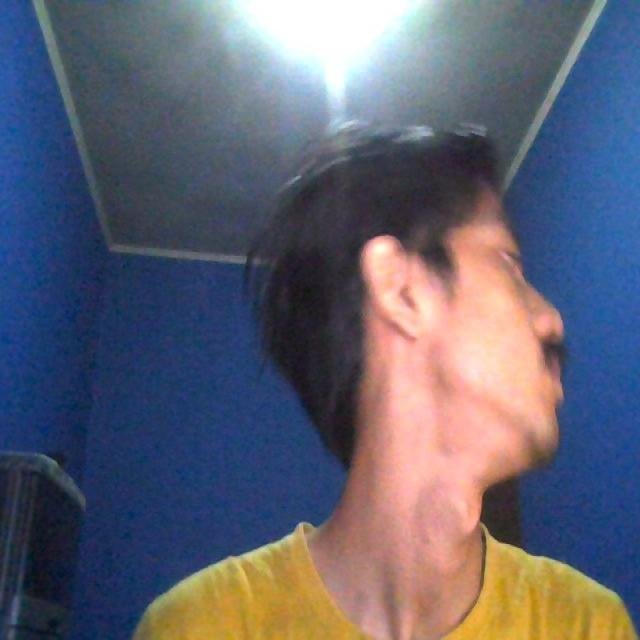melihat kekiri: (232, 87, 586, 500)
